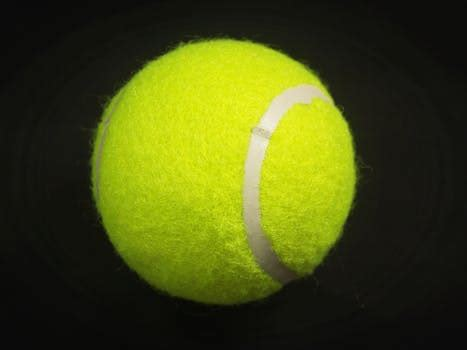tennis_ball: (88, 36, 358, 306)
